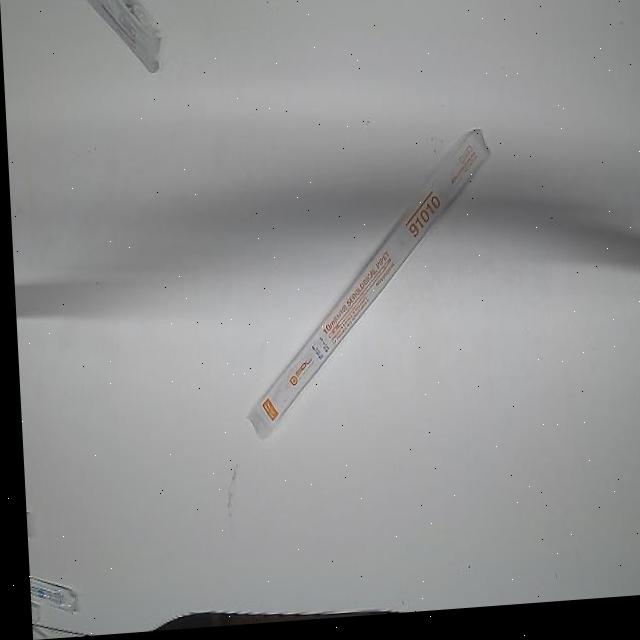Serelogical Pipet 10 mL - Sealed: (231, 134, 504, 447)
